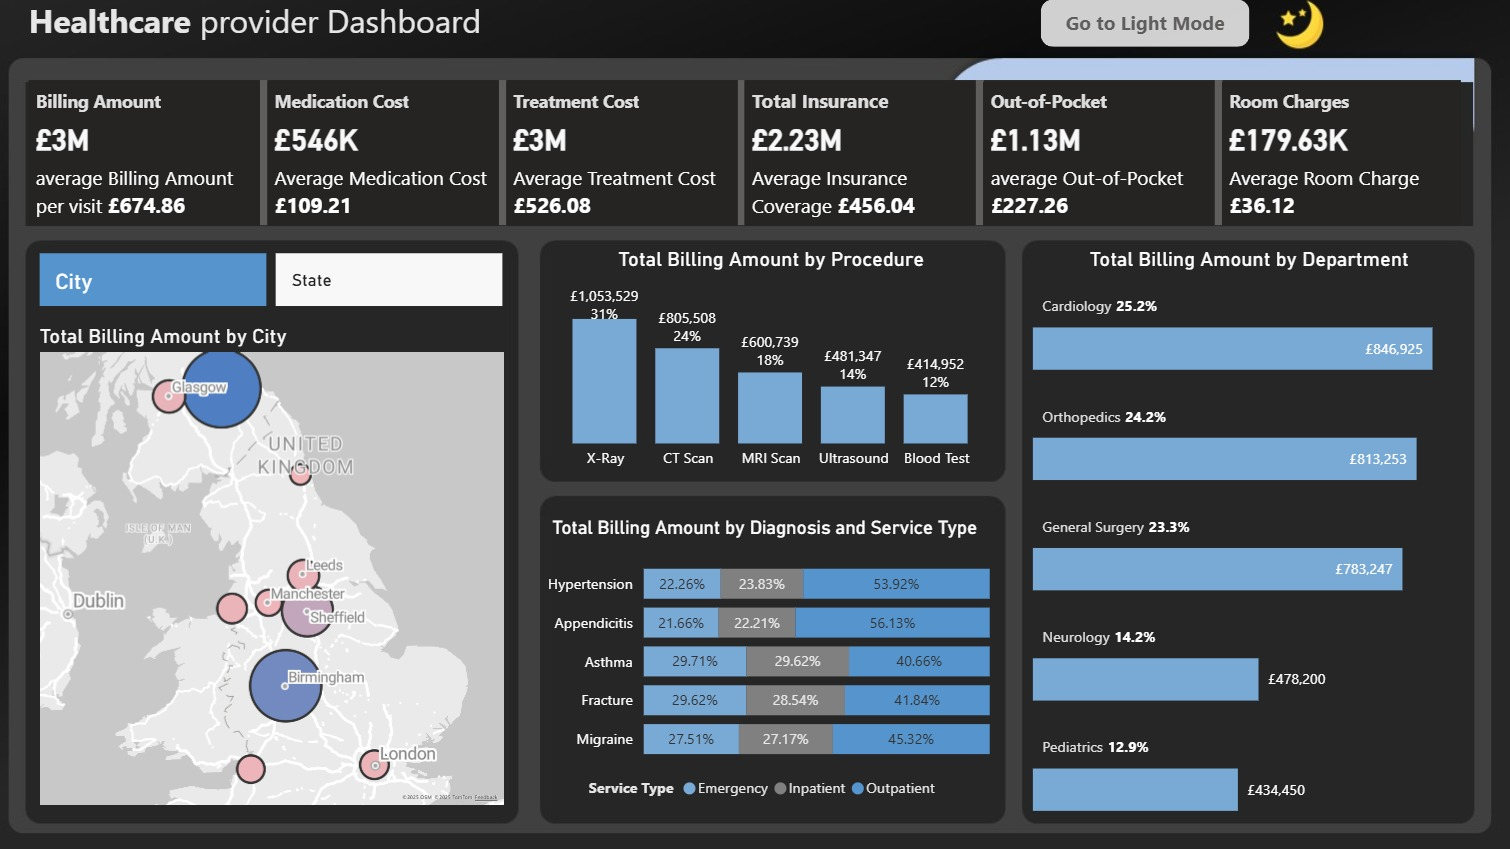

The dashboard page shown, as its layout file describes it:
{"tool":"powerbi","page":{"name":"Detail Dark","canvas":[1280,720],"ordinal":2},"visuals":[{"type":"cardVisual","fields":{"Data":["DAX Calculation.Total Billing Amount","DAX Calculation.Total Medication cost","DAX Calculation.Total Treatment Cost","DAX Calculation.Total Insurance Coverage","DAX Calculation.Out-of-Pocket","DAX Calculation.Total Room Charges"]},"box":[33.3,73.9,1208.1,121.9],"z":0},{"type":"azureMap","fields":{"Category":["cities.City"],"Size":["DAX Calculation.Total Billing Amount"]},"box":[41.9,277.1,396.5,405.2],"z":1000},{"type":"advancedSlicerVisual","fields":{"Values":["Patients Location Switch.Patients Location Switch"]},"box":[41.9,213,396.5,54.2],"z":2000},{"type":"clusteredColumnChart","fields":{"Category":["procedures.Procedure"],"Y":["DAX Calculation.Total Billing Amount"]},"box":[459.3,213,396.5,194.6],"z":3000},{"type":"hundredPercentStackedBarChart","fields":{"Y":["DAX Calculation.Total Billing Amount"],"Category":["diagnoses.Diagnosis"],"Series":["visits.Service Type"]},"box":[459.3,437.2,385.5,245.1],"z":4000},{"type":"clusteredBarChart","title":"Total Billing Amount by Department","fields":{"Category":["departments.Department"],"Y":["DAX Calculation.Blank Measures","DAX Calculation.Total Billing Amount"]},"box":[870.7,213,370.7,477.8],"z":5000},{"type":"textbox","box":[33.3,0,500,51.7],"z":6000},{"type":"actionButton","box":[882.2,6.4,174.1,39.5],"z":7000}]}

Visuals, with their boxes in screenshot pixels (x1, y1, x2, y2), scaled from the page's 1280x720 canvas onto the 1510x849 screenshot:
cardVisual - DAX Calculation.Total Billing Amount x DAX Calculation.Total Medication cost: locate(39, 87, 1464, 231)
azureMap - cities.City x DAX Calculation.Total Billing Amount: locate(49, 327, 517, 805)
advancedSlicerVisual - Patients Location Switch.Patients Location Switch: locate(49, 251, 517, 315)
clusteredColumnChart - procedures.Procedure x DAX Calculation.Total Billing Amount: locate(542, 251, 1010, 481)
hundredPercentStackedBarChart - DAX Calculation.Total Billing Amount x diagnoses.Diagnosis: locate(542, 516, 997, 805)
"Total Billing Amount by Department" clusteredBarChart: locate(1027, 251, 1464, 815)
textbox: locate(39, 0, 629, 61)
actionButton: locate(1041, 8, 1246, 54)
